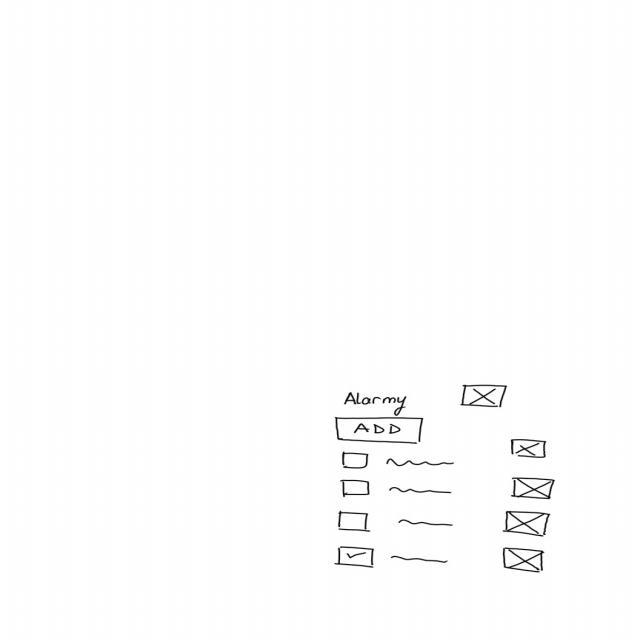button: (336, 416, 426, 444)
checkbox: (336, 510, 454, 534), (336, 546, 450, 570), (340, 478, 452, 498), (341, 452, 456, 470)
image: (504, 510, 552, 538), (459, 384, 508, 408), (502, 547, 546, 573), (511, 476, 555, 500), (509, 438, 547, 460)
label: (342, 391, 408, 417)
